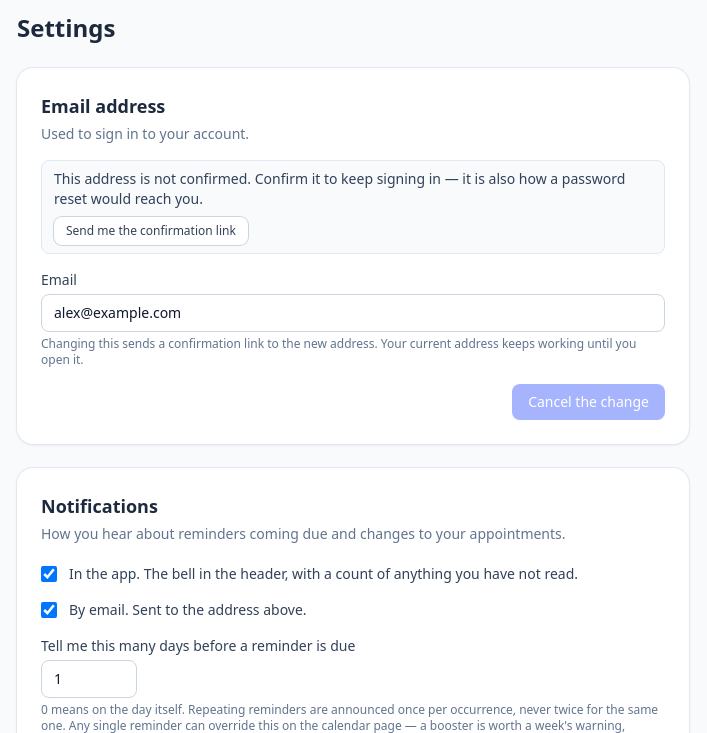
Test: the state of the address itself › never claims the address changed when only a link was sent
Replace the text in the field labelled "Email" with "new@example.com". click: (353, 313)
box: [41,294,665,332]
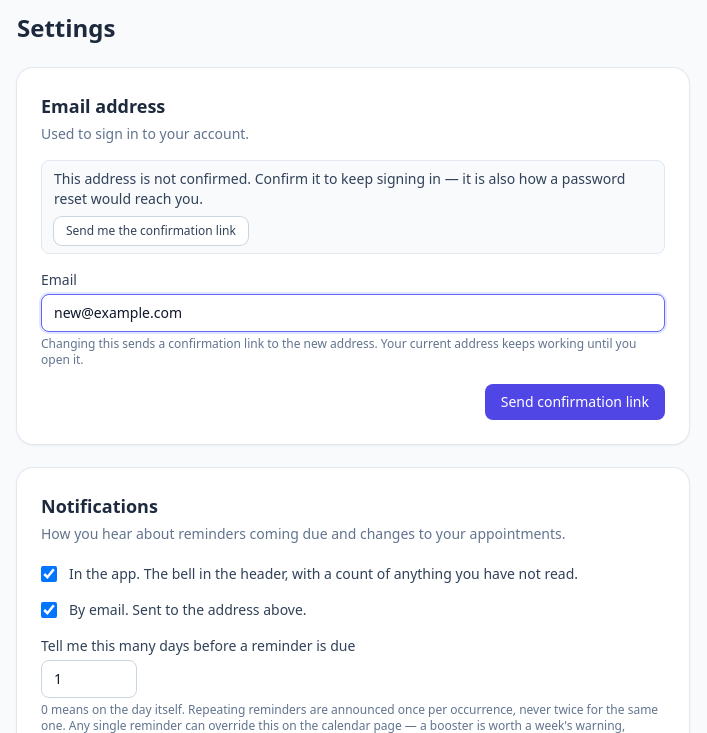
Click the button "Send confirmation link". click: (575, 402)
box: [485,384,665,420]
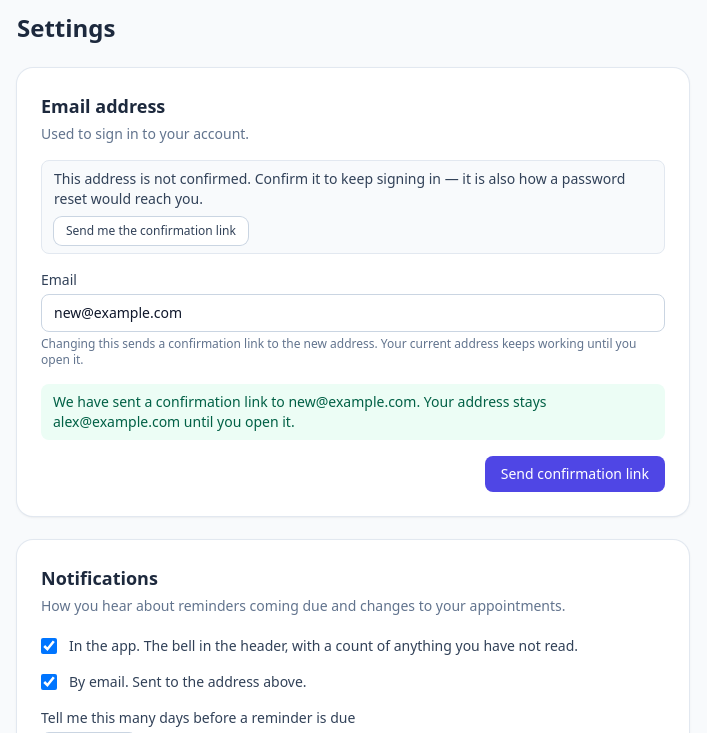
Now the text "We have sent a confirmation link" shows "new@example.com", box [53,392,547,431]
Now the text "We have sent a confirmation link" shows "stays alex@example.com until you open it", box [53,392,547,431]
